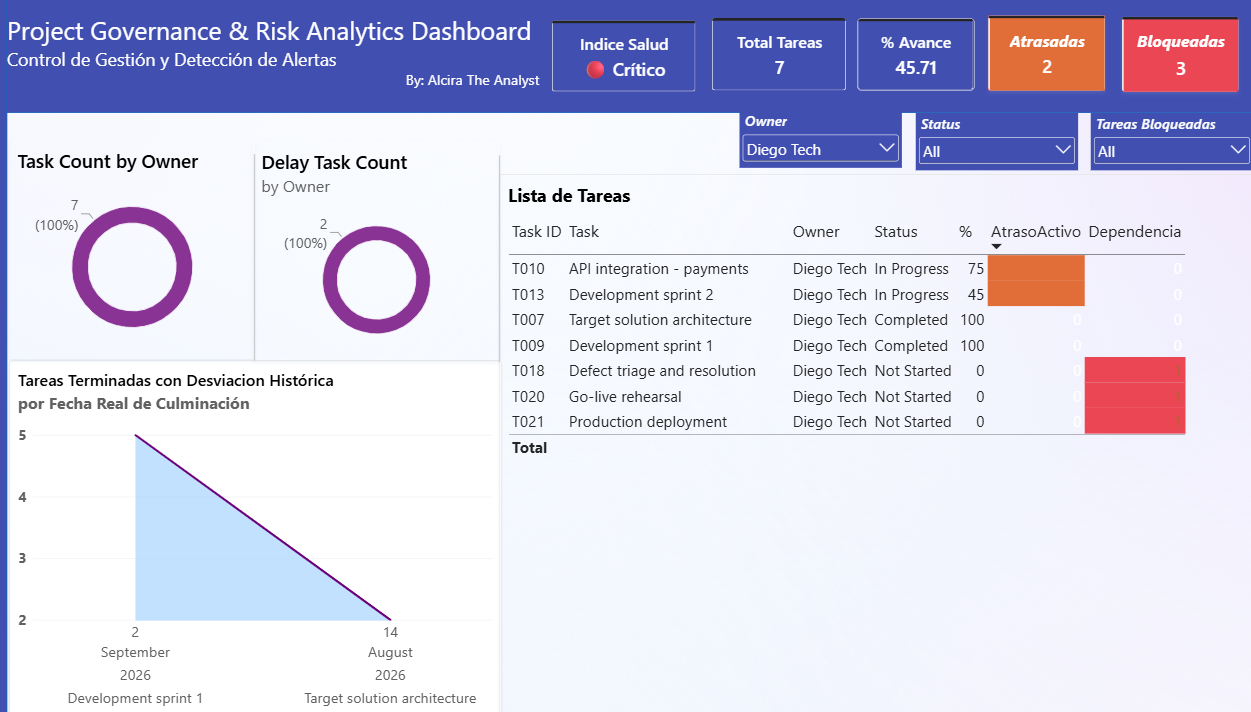

The dashboard page shown, as its layout file describes it:
{"tool":"powerbi","page":{"name":"Page 1","canvas":[1920,1080],"ordinal":0},"visuals":[{"type":"areaChart","title":"Tareas Terminadas con Desviacion Histórica ","fields":{"Category":["Audited_Tracker.Task","Audited_Tracker.Actual End.Variation.Date Hierarchy.Year","Audited_Tracker.Actual End.Variation.Date Hierarchy.Month","Audited_Tracker.Actual End.Variation.Date Hierarchy.Day"],"Y":["_Medidas.Desviacion Dias"]},"box":[63.4,541.1,734,540],"z":0},{"type":"shape","box":[0,2,1920.1,169.8],"z":1000},{"type":"shape","box":[0,0,60,1078],"z":2000},{"type":"cardVisual","fields":{"Data":["_Medidas.% Avance Promedio"]},"box":[1328,29.9,175.7,108.6],"z":3000},{"type":"cardVisual","fields":{"Data":["_Medidas.Tareas Atrasadas"]},"box":[1524.5,26.1,174,112],"z":4000},{"type":"donutChart","title":"Delay Task Count","fields":{"Category":["Audited_Tracker.Owner"],"Y":["_Medidas.Tareas Atrasadas"]},"box":[428,212,368.1,327.6],"z":5000},{"type":"tableEx","title":"Lista de Tareas","fields":{"Values":["Audited_Tracker.Task ID","Audited_Tracker.Task","Audited_Tracker.Owner","Audited_Tracker.Status","Audited_Tracker.Progress %","Audited_Tracker.Flag_Regla1_AtrasoActivo","Audited_Tracker.Flag_Regla3_BloqueoDependencia"]},"box":[794.9,263.1,1125.2,817.3],"z":6000},{"type":"cardVisual","fields":{"Data":["_Medidas.Total Tareas"]},"box":[1112,29.9,200,108],"z":7000},{"type":"textbox","box":[59.7,22.4,794.9,115.7],"z":8000},{"type":"cardVisual","fields":{"Data":["_Medidas.Indice Salud"]},"box":[874,33.9,214,106],"z":9000},{"type":"donutChart","title":"Task Count by Owner","fields":{"Category":["Audited_Tracker.Owner"],"Y":["CountNonNull(Audited_Tracker.Task)"]},"box":[63.4,210.9,366.3,327.6],"z":10000},{"type":"slicer","fields":{"Values":["Audited_Tracker.Owner"]},"box":[1153.2,167.9,242.6,85.8],"z":11000},{"type":"cardVisual","fields":{"Data":["_Medidas.Tareas Blocked"]},"box":[1725,28.3,174,112],"z":12000},{"type":"slicer","fields":{"Values":["Audited_Tracker.Status"]},"box":[1416.2,171.7,242.6,85.8],"z":13000},{"type":"shape","box":[406.8,233.2,44.8,307.9],"z":14000},{"type":"shape","box":[772.5,235.1,44.8,843.4],"z":15000},{"type":"slicer","fields":{"Values":["Audited_Tracker.Requiere_Atencion"]},"box":[1677.5,171.7,242.6,85.8],"z":16000}]}

Visuals, with their boxes in screenshot pixels (x1, y1, x2, y2), scaled from the page's 1920x1080 canvas onto the 1251x712 screenshot:
"Tareas Terminadas con Desviacion Histórica " areaChart: x1=41, y1=357, x2=520, y2=711
shape: x1=0, y1=1, x2=1250, y2=113
shape: x1=0, y1=0, x2=39, y2=711
cardVisual - _Medidas.% Avance Promedio: x1=865, y1=20, x2=980, y2=91
cardVisual - _Medidas.Tareas Atrasadas: x1=993, y1=17, x2=1107, y2=91
"Delay Task Count" donutChart: x1=279, y1=140, x2=519, y2=356
"Lista de Tareas" tableEx: x1=518, y1=173, x2=1250, y2=711
cardVisual - _Medidas.Total Tareas: x1=725, y1=20, x2=855, y2=91
textbox: x1=39, y1=15, x2=557, y2=91
cardVisual - _Medidas.Indice Salud: x1=569, y1=22, x2=709, y2=92
"Task Count by Owner" donutChart: x1=41, y1=139, x2=280, y2=355
slicer - Audited_Tracker.Owner: x1=751, y1=111, x2=909, y2=167
cardVisual - _Medidas.Tareas Blocked: x1=1124, y1=19, x2=1237, y2=92
slicer - Audited_Tracker.Status: x1=923, y1=113, x2=1081, y2=170
shape: x1=265, y1=154, x2=294, y2=357
shape: x1=503, y1=155, x2=533, y2=711
slicer - Audited_Tracker.Requiere_Atencion: x1=1093, y1=113, x2=1250, y2=170
